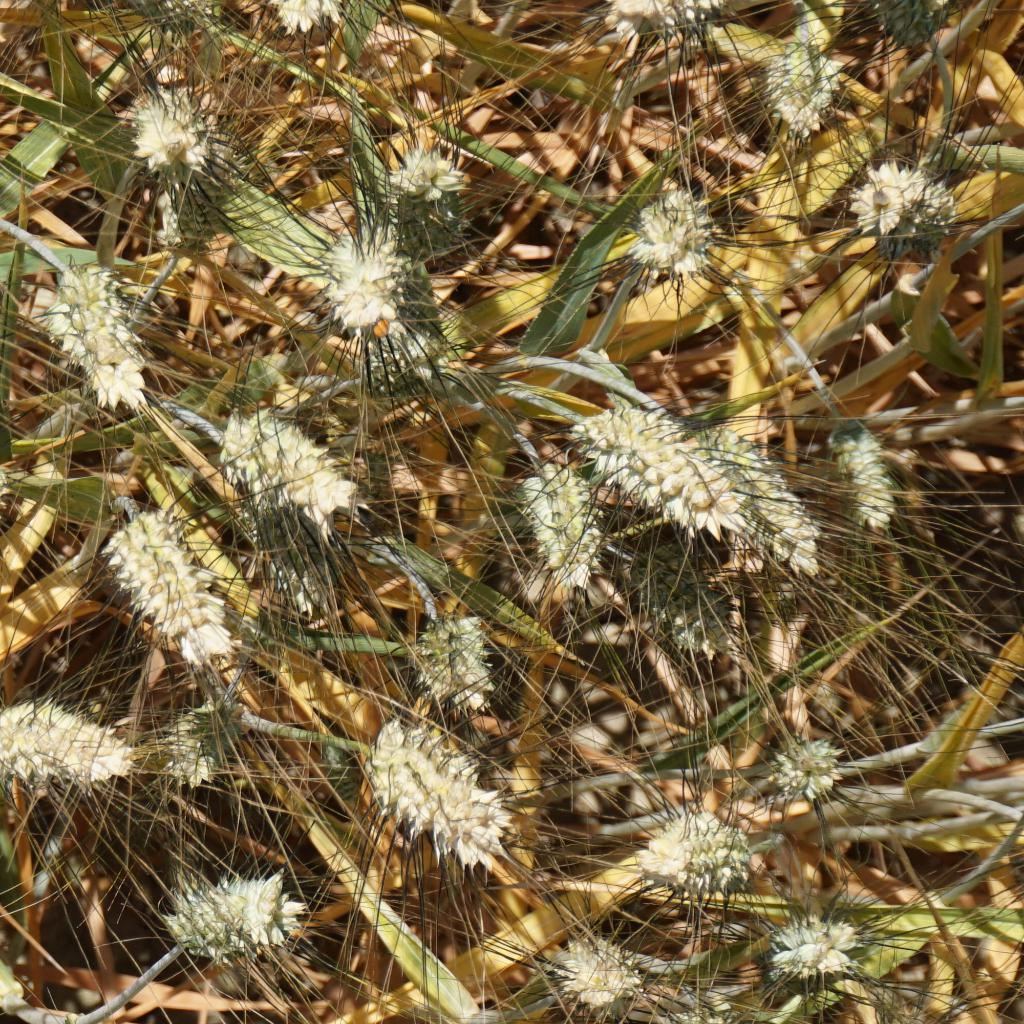0-0: (358, 714, 513, 875), (108, 507, 239, 664), (144, 92, 241, 274), (693, 417, 809, 563), (216, 392, 359, 509), (157, 867, 311, 970), (52, 263, 154, 418), (593, 404, 721, 523), (630, 553, 750, 679), (628, 804, 757, 908), (0, 699, 136, 796), (836, 157, 956, 257), (547, 922, 645, 1018), (408, 610, 498, 714), (515, 472, 601, 578), (630, 186, 719, 280), (251, 501, 327, 611), (823, 413, 901, 516), (329, 221, 397, 331), (156, 696, 235, 790), (764, 35, 836, 136), (394, 187, 480, 267), (766, 900, 850, 976), (132, 75, 200, 162), (769, 735, 850, 807), (622, 0, 734, 50), (358, 324, 439, 389), (313, 729, 369, 811), (392, 141, 457, 207), (245, 0, 357, 36), (881, 0, 942, 52), (669, 991, 757, 1024), (862, 1004, 944, 1024)
